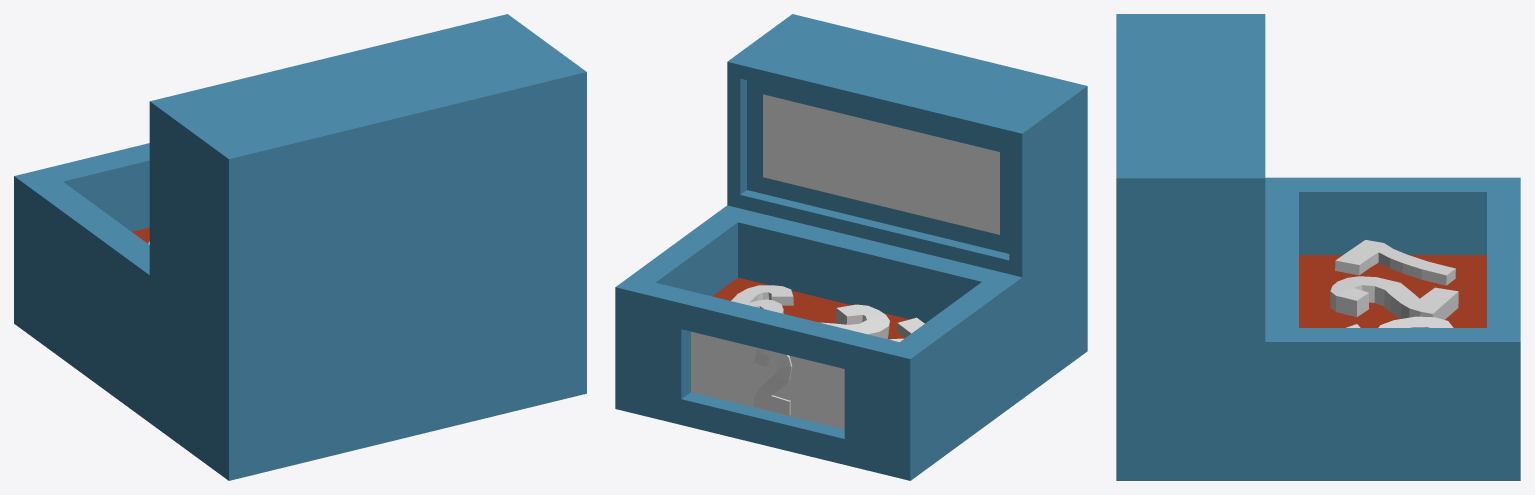
File: Boks.fbx
3 renders of one model, left to right at view 1: azimuth 30°, elevation 25°; view 2: azimuth 150°, elevation 25°; view 3: azimuth 270°, elevation 25°, orthographic. The views are drawn at different scales.
Visible parts, largest first — view 1: Boks; view 2: Boks, 2.5, 2.6, 6.5; view 3: Boks, 2.6, 7.5, 6.5.
Boxes of the visible parts, bbox=[...] form: Boks: bbox=[14, 14, 586, 480]; Boks: bbox=[615, 14, 1087, 480]; 2.5: bbox=[753, 348, 792, 415]; 2.6: bbox=[820, 304, 889, 338]; 6.5: bbox=[731, 285, 793, 313]; Boks: bbox=[1116, 14, 1520, 480]; 2.6: bbox=[1330, 276, 1458, 319]; 7.5: bbox=[1335, 240, 1455, 285]; 6.5: bbox=[1346, 316, 1453, 327].
Size of the model in its own units: 672 by 578 by 699.
